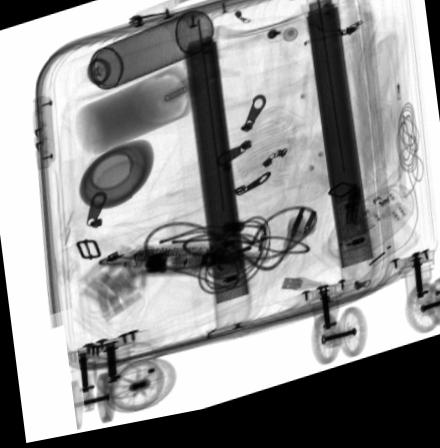Sprayer: (63, 17, 214, 103)
